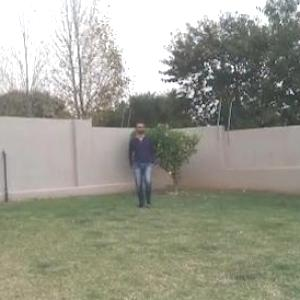follow: (132, 123, 154, 211)
